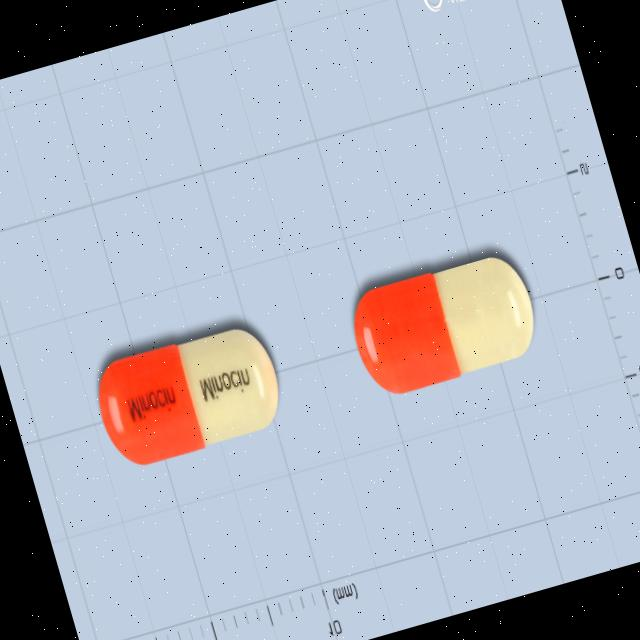Minocin Cap: (341, 245, 549, 406), (87, 316, 291, 476)
